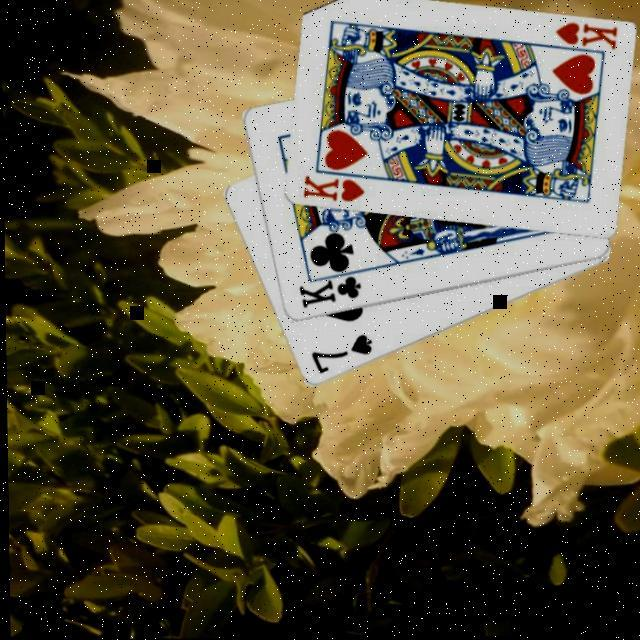7S: (304, 334, 373, 379)
KC: (292, 268, 364, 313)
KH: (550, 22, 618, 56), (296, 175, 364, 207)
